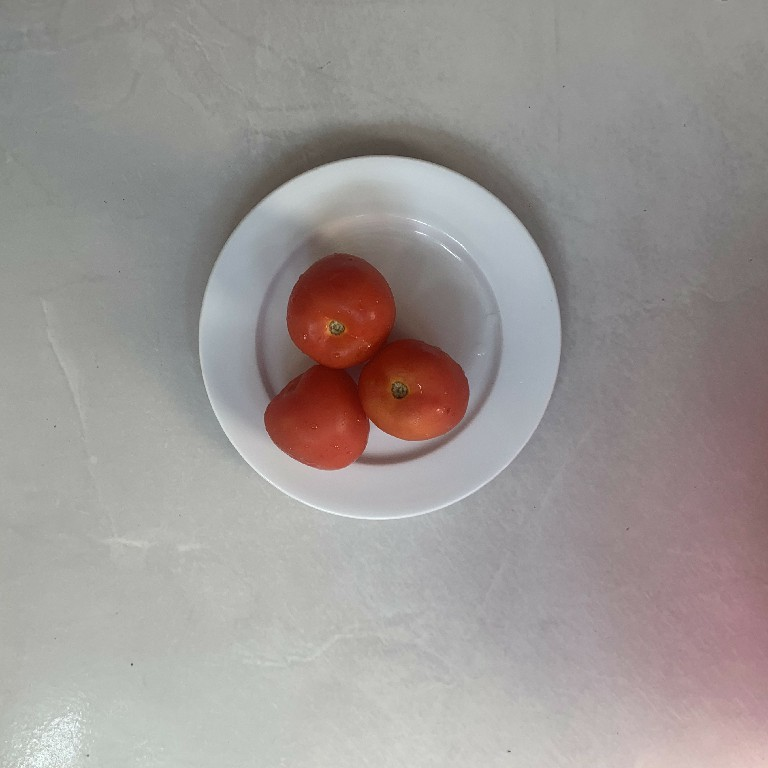OK: (288, 254, 404, 372), (360, 337, 476, 445), (257, 364, 372, 471)
